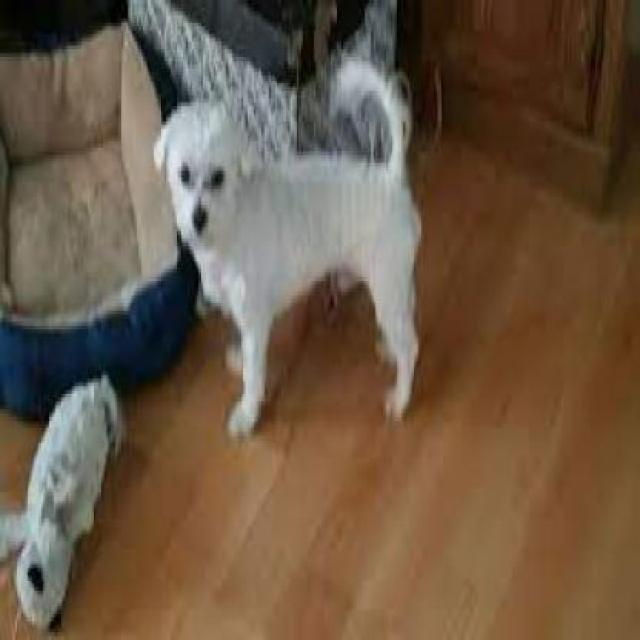Dog: (150, 55, 428, 454)
